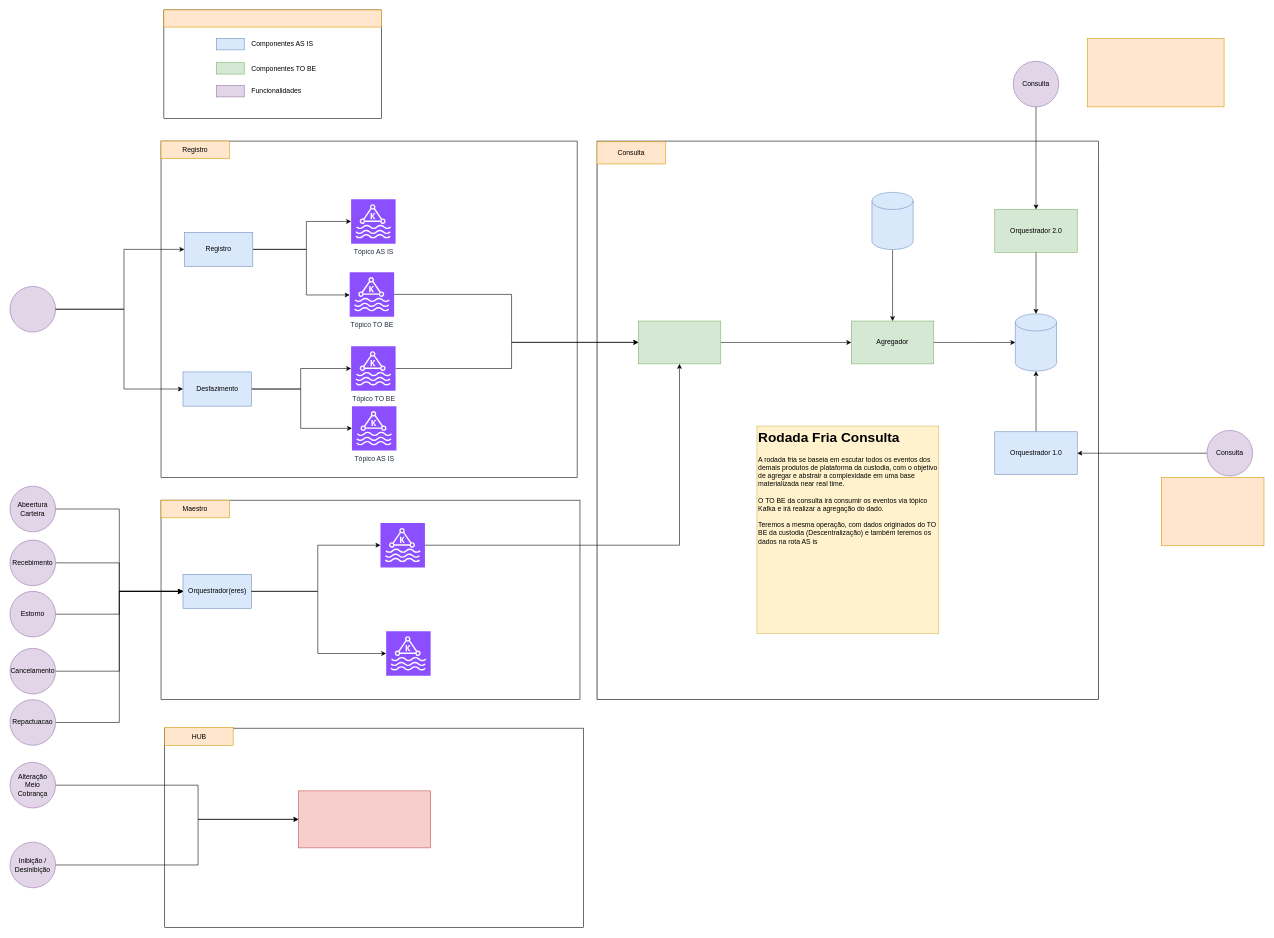
Some shapes in this 1274 by 938 pixel diagram are drawn without their labels. Each missing label, with the centre of its shape:
"Atenção! HUB não participará do fluxo da rodada fria." belongs at [364,819].
"Consulta AS IS Mostrar os dados do Maestro (AS IS)" belongs at [1212,511].
"Consulta TO BE Mostrar os dados do Gestão de Carteira (TO BE)" belongs at [1155,72].
"Consumer" belongs at [679,342].
"Contratação / Desfazimento" belongs at [32,309].
"Database" belongs at [1036,342].
"Database SG2" belongs at [892,221].
"LEGENDAS" belongs at [272,18].
"Tópicos AS IS" belongs at [408,653].
"Tópicos TO BE" belongs at [402,544].
